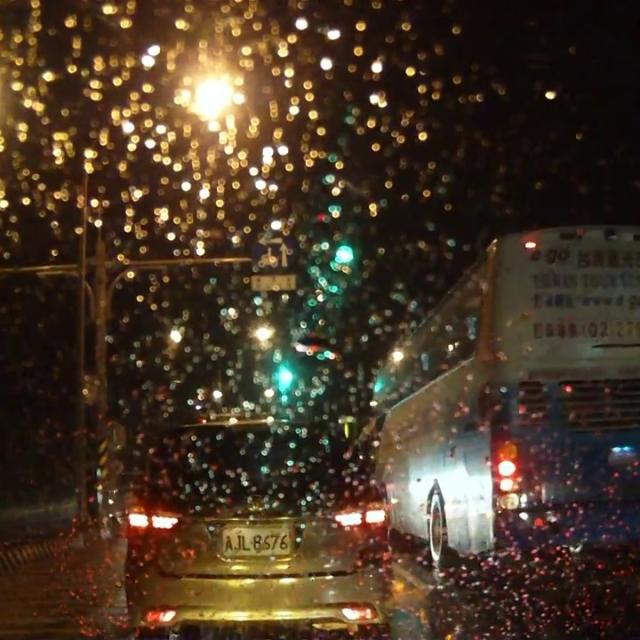Car: (113, 409, 398, 639)
